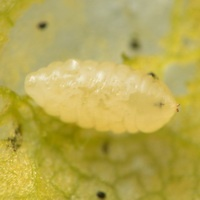insect: (25, 59, 175, 132)
